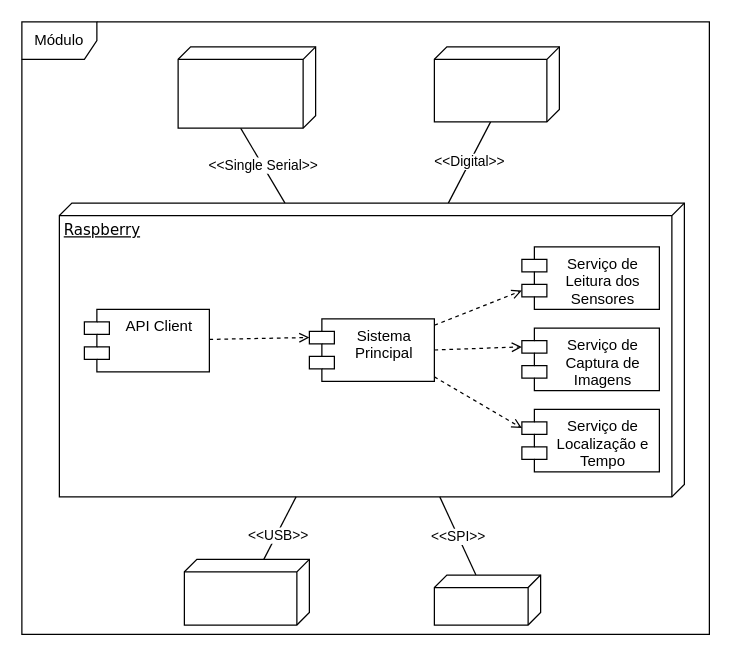
Some shapes in this 731 by 656 pixel diagram are drawn without their labels. Each missing label, with the centre of its shape:
"Dispositivo Fotográfico" belongs at point (246, 591).
"GPS" belongs at point (487, 599).
"Sensor de Movimento" belongs at point (496, 84).
"Sensor de Umidade e Temperatura" belongs at point (246, 87).
